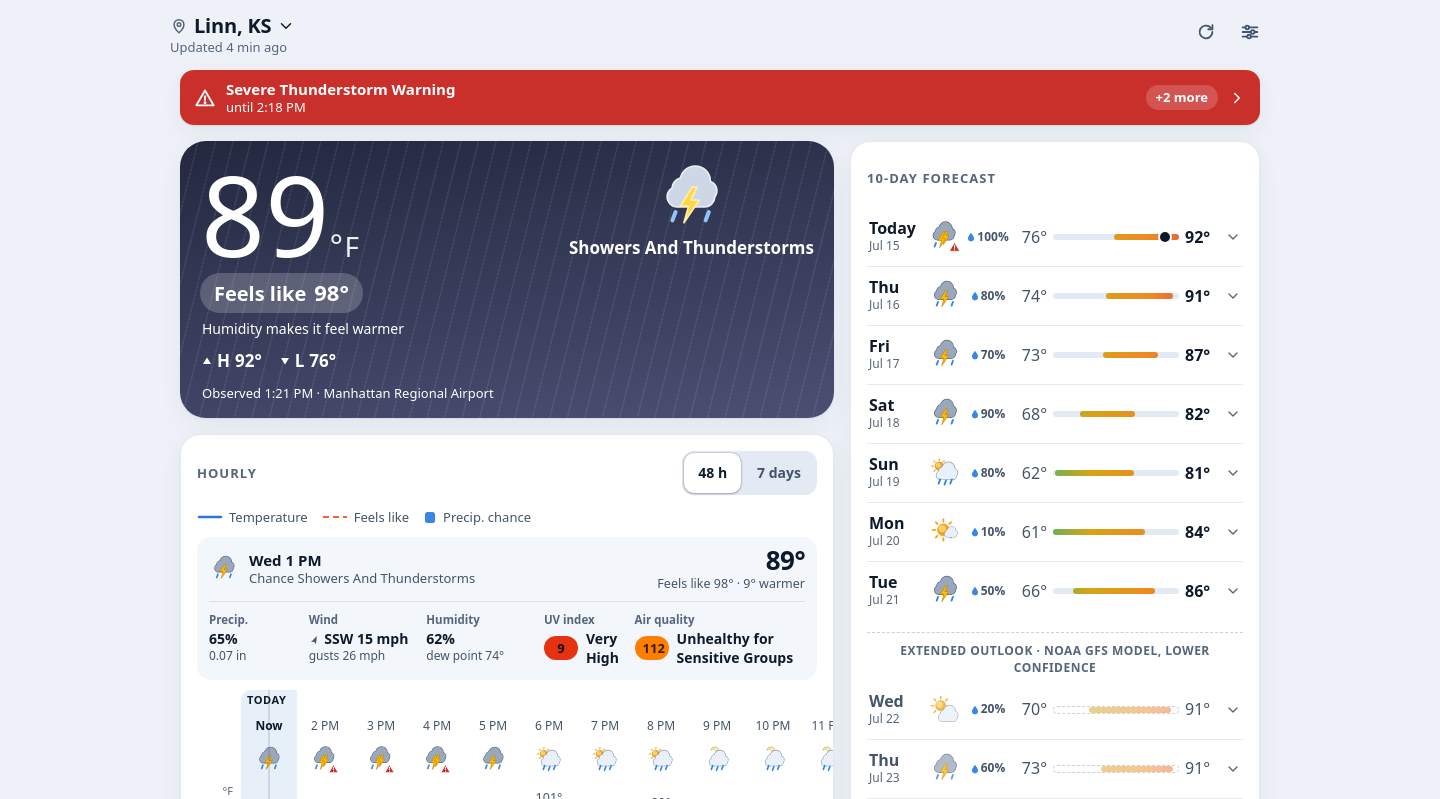
Test case: App with a mock bundle (?mock=summer) › switches back to °F
The width and height of the screenshot is (1440, 799).
expect the element with test id "hero" is shown: met, box x1=180 y1=141 x2=834 y2=418
What coordinates should you click on to do the following:
click the button named "Settings"
I would click on:
 (1250, 32)
Its box is x1=1228 y1=10 x2=1272 y2=54.
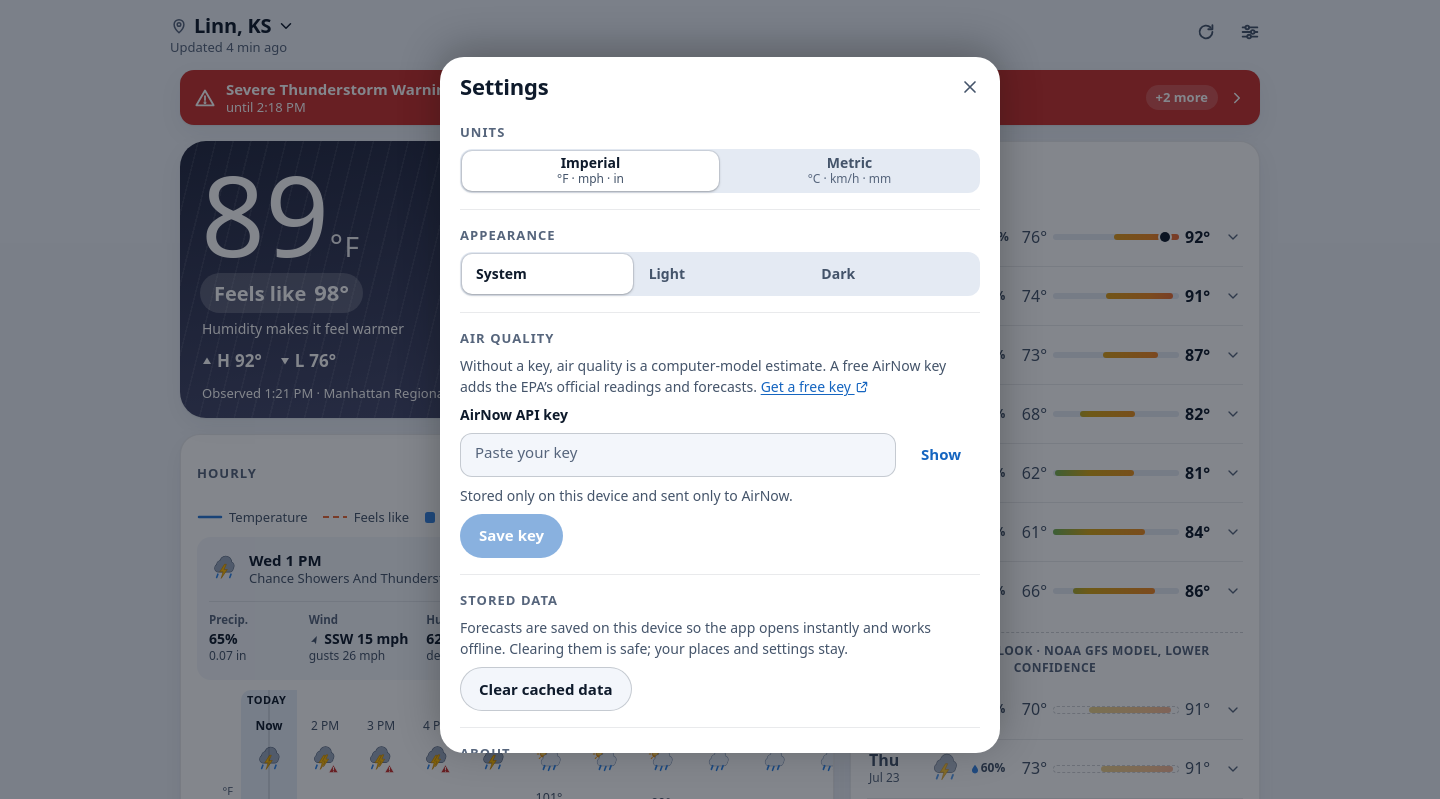
What coordinates should you click on to do the following:
click the radio button labelled "Metric °C · km/h · mm"
I would click on:
 (850, 171)
Its box is x1=721 y1=151 x2=978 y2=191.
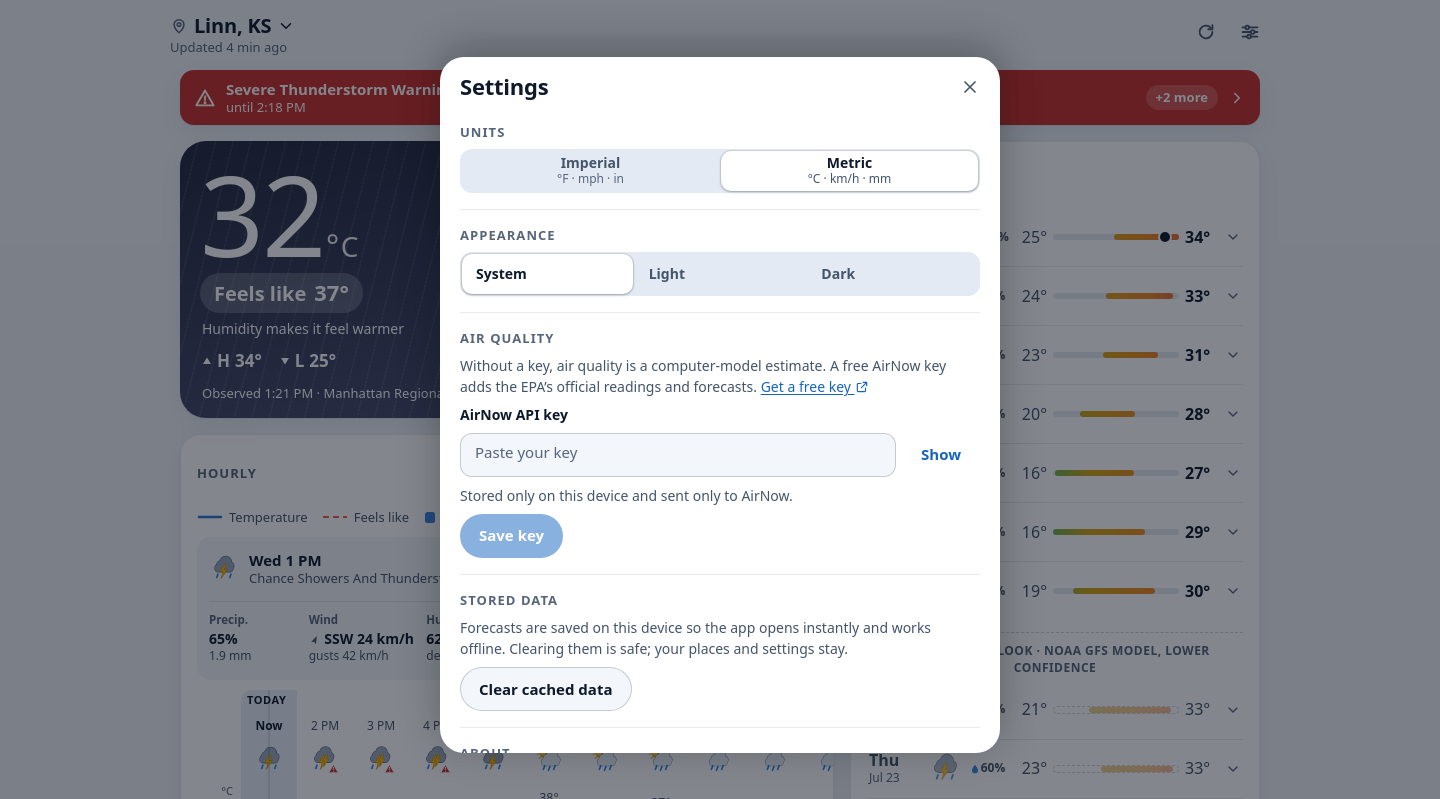
What coordinates should you click on to do the following:
click the radio button labelled "Imperial °F · mph · in"
I would click on:
 (590, 171)
Its box is x1=462 y1=151 x2=719 y2=191.
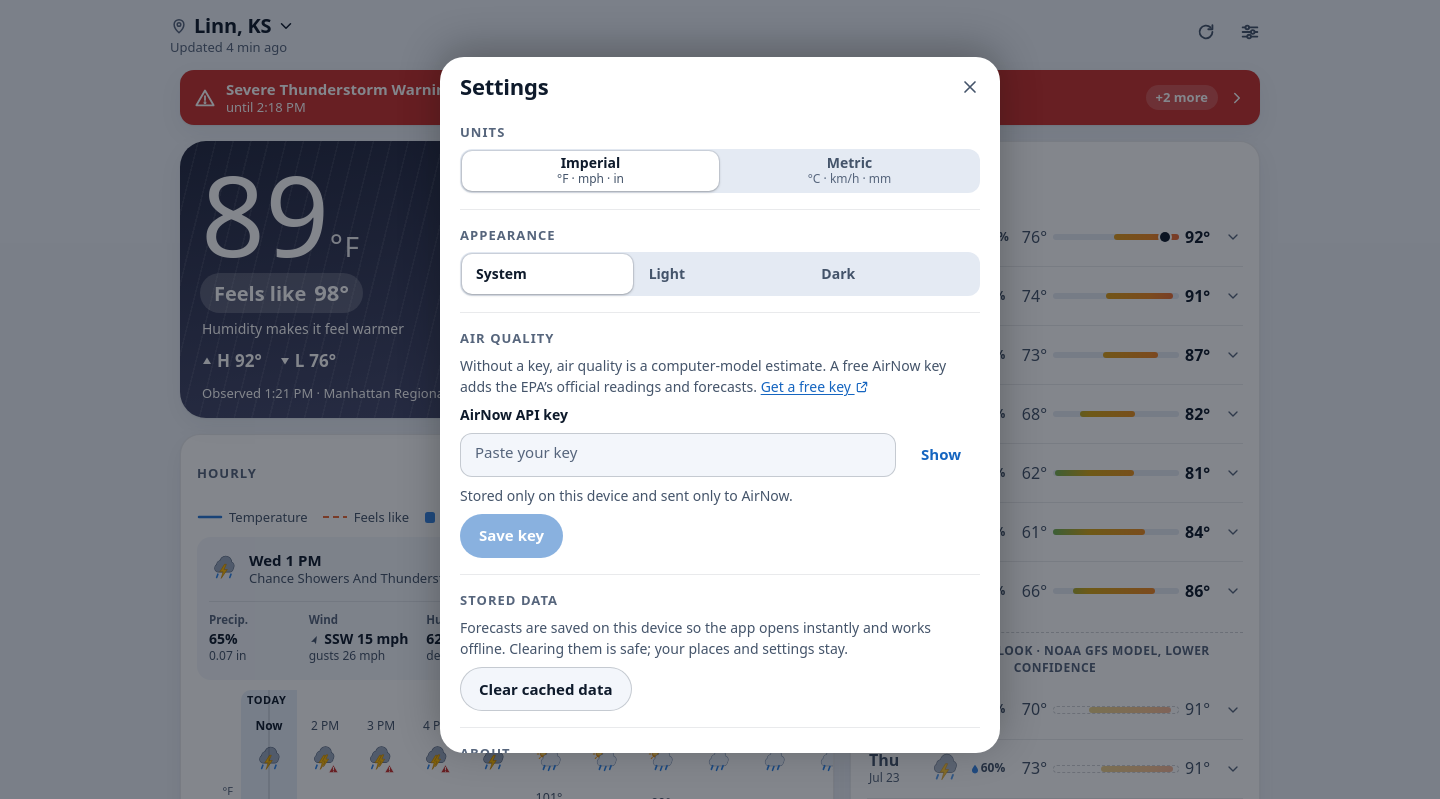
expect the element with test id "hero-temp" shows "°F": met, box x1=200 y1=161 x2=359 y2=267
